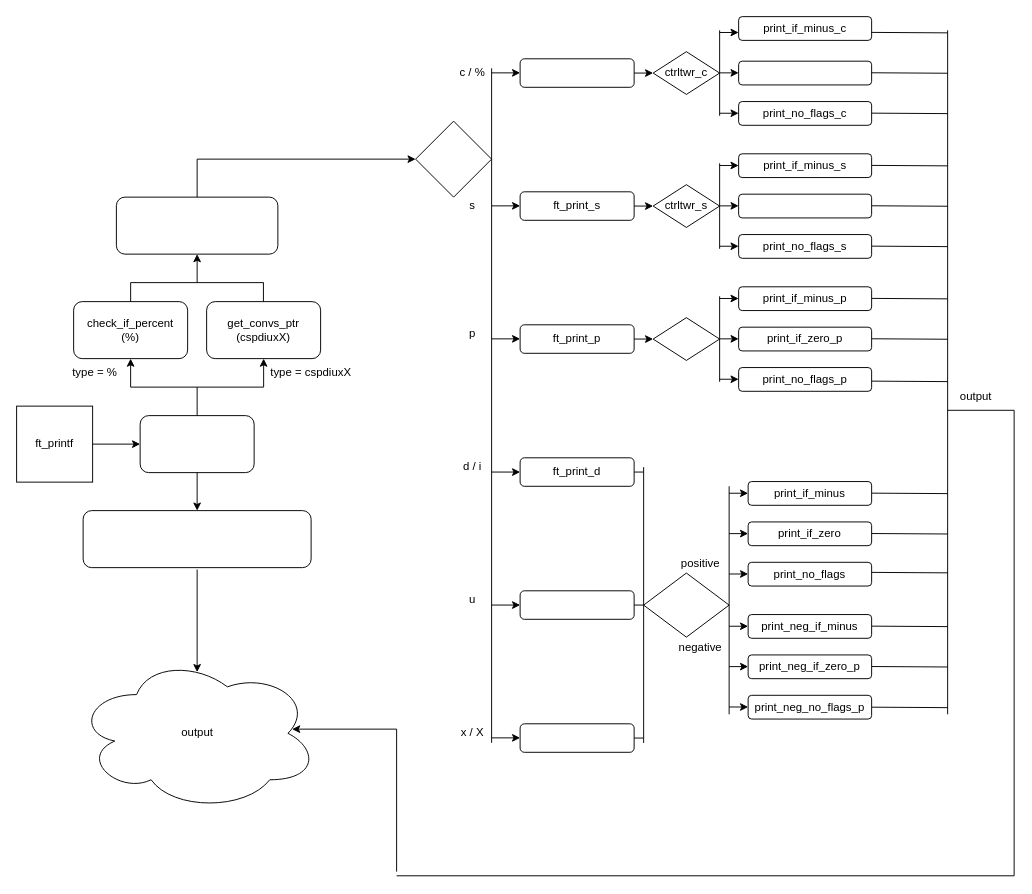
The diagram is 1032 pixels wide and 894 high, and some of its shapes have lost their labels. Here are the shapes that lost their labels. From the top down, the centre of each, then its label:
At pixel 576 72: "ft_print_c".
At pixel 805 72: "print_if_zero_c".
At pixel 453 158: "ctrl_twr".
At pixel 196 225: "def_format (format placeholder parsing)".
At pixel 805 205: "print_if_zero_s".
At pixel 686 338: "ctrltwr_p".
At pixel 196 444: "ft_printf_main".
At pixel 196 539: "ft_putstr_until (if not format placeholder, just write)".
At pixel 576 604: "ft_print_u".
At pixel 686 604: "ctrltwr_diux".
At pixel 576 737: "ft_print_x".
